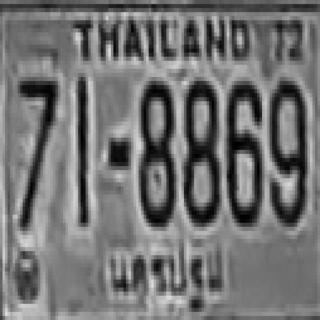N01: (76, 75, 88, 225)
N06: (224, 77, 260, 223)
N07: (18, 73, 55, 227)
N08: (136, 77, 174, 223), (181, 77, 217, 223)
N09: (267, 77, 305, 223)
P28: (104, 233, 224, 313)
